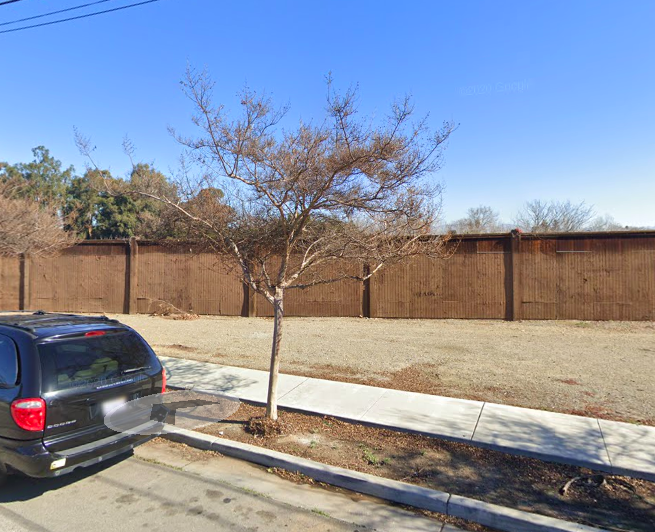tree: (119, 55, 468, 420)
